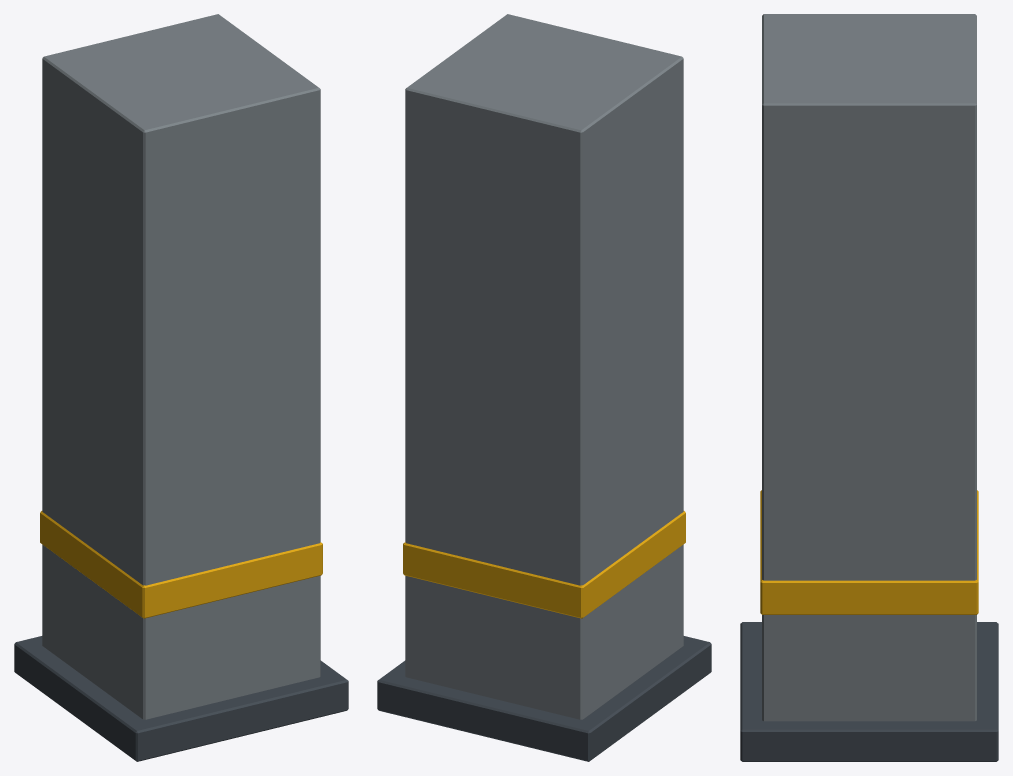
File: ConcreteSupportWide.fbx
3 views of the same model, side by side, from view 1: azimuth 30°, elevation 25°; view 2: azimuth 150°, elevation 25°; view 3: azimuth 270°, elevation 25° (orthographic). The views are drawn at different scales.
Visible parts, largest first — view 1: ConcreteSupportWide; view 2: ConcreteSupportWide; view 3: ConcreteSupportWide.
Part boxes in pixels (<box>): ConcreteSupportWide: <box>14,14,348,761</box>; ConcreteSupportWide: <box>377,14,711,761</box>; ConcreteSupportWide: <box>740,14,998,761</box>.
Bounding box in the file's own units: 108 × 300 × 108.
1 material, 1 textured.
